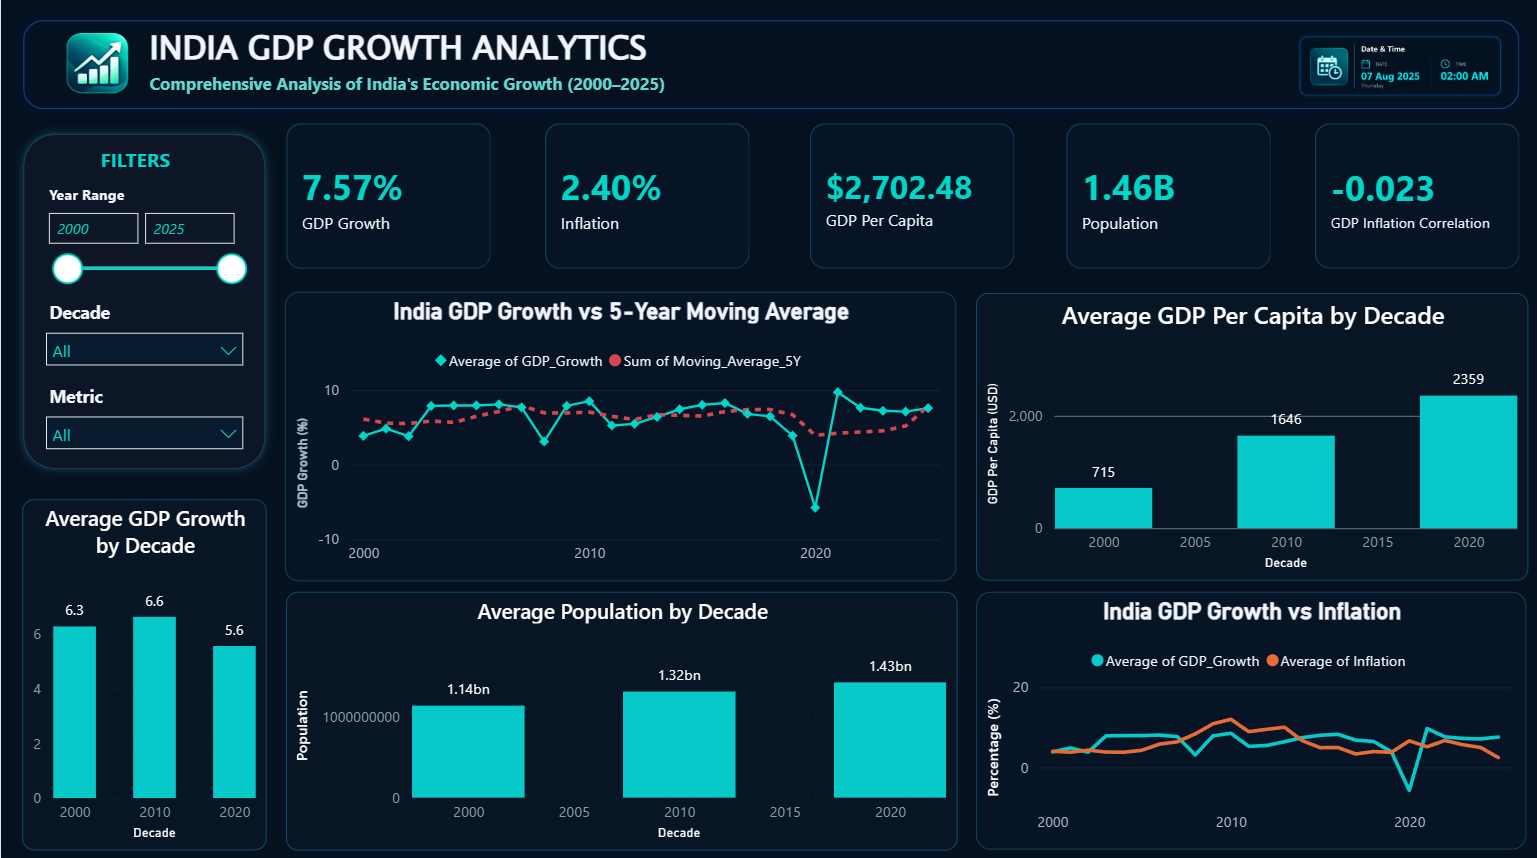

Layout of this report page (visuals, bound fields, positions):
{"tool":"powerbi","page":{"name":"Page 1","canvas":[1280,720],"ordinal":0},"visuals":[{"type":"shape","box":[10,10,1260,90],"z":0},{"type":"textbox","box":[118.9,16.4,440.2,59.4],"z":1000},{"type":"textbox","box":[118.9,55.7,440.2,35.4],"z":2000},{"type":"image","box":[53.1,29.1,54.4,50.6],"z":3000},{"type":"shape","box":[10.1,105,217.5,294.7],"z":4000},{"type":"textbox","box":[78.4,118.9,79.7,34.2],"z":5000},{"type":"slicer","fields":{"Values":["india_economic_analysis india_economic_data.Year"]},"box":[26.6,150.5,185.9,96.1],"z":6000},{"type":"slicer","fields":{"Values":["india_economic_analysis india_economic_data.Decade"]},"box":[26.6,246.6,184.7,70.8],"z":7000},{"type":"slicer","fields":{"Values":["Parameter.Parameter"]},"box":[26.6,316.2,184.7,72.1],"z":8000},{"type":"cardVisual","fields":{"Data":["Parameter.GDP Growth Display"]},"box":[220,87.8,204.9,155.6],"z":9000},{"type":"cardVisual","fields":{"Data":["Parameter.Inflation Display"]},"box":[435.6,87.8,204.9,155.6],"z":10000},{"type":"cardVisual","fields":{"Data":["Parameter.GDP Per Capita Display"]},"box":[655.6,87.8,204.9,155.6],"z":11000},{"type":"cardVisual","fields":{"Data":["Parameter.Population Display"]},"box":[868.9,87.8,204.4,155.6],"z":12000},{"type":"cardVisual","fields":{"Data":["Parameter.GDP Inflation Correlation Display"]},"box":[1075.6,87.8,204.9,155.6],"z":13000},{"type":"lineChart","title":"India GDP Growth vs 5-Year Moving Average","fields":{"Category":["india_economic_analysis india_economic_data.Year"],"Y":["Avg(india_economic_analysis india_economic_data.GDP_Growth)","Sum(india_economic_analysis india_economic_data.Moving_Average_5Y)"]},"box":[236.2,243.8,558.3,240.9],"z":14000},{"type":"columnChart","fields":{"Category":["india_economic_analysis india_economic_data.Decade"],"Y":["Avg(india_economic_analysis india_economic_data.GDP_Per_Capita)"]},"box":[810.8,245.4,459.2,239.2],"z":15000},{"type":"lineChart","title":"India GDP Growth vs Inflation ","fields":{"Category":["india_economic_analysis india_economic_data.Year"],"Y":["Avg(india_economic_analysis india_economic_data.GDP_Growth)","Avg(india_economic_analysis india_economic_data.Inflation)"]},"box":[811.1,493.3,457.8,214.4],"z":16000},{"type":"clusteredColumnChart","title":"Average GDP Growth by Decade","fields":{"Category":["india_economic_analysis india_economic_data.Decade"],"Y":["Avg(india_economic_analysis india_economic_data.GDP_Growth)"]},"box":[17.7,416.7,203.3,292.2],"z":17000},{"type":"clusteredColumnChart","title":"Average Population by Decade","fields":{"Category":["india_economic_analysis india_economic_data.Decade"],"Y":["Avg(india_economic_analysis india_economic_data.Population)"]},"box":[236.6,493.4,558.3,215],"z":18000},{"type":"image","box":[1073.6,29.1,178.8,55.1],"z":19000}]}

Visuals, with their boxes in screenshot pixels (x1, y1, x2, y2), scaled from the page's 1280x720 canvas onto the 1537x858 screenshot:
shape: box(12, 12, 1525, 119)
textbox: box(143, 20, 671, 90)
textbox: box(143, 66, 671, 109)
image: box(64, 35, 129, 95)
shape: box(12, 125, 273, 476)
textbox: box(94, 142, 190, 182)
slicer - india_economic_analysis india_economic_data.Year: box(32, 179, 255, 294)
slicer - india_economic_analysis india_economic_data.Decade: box(32, 294, 254, 378)
slicer - Parameter.Parameter: box(32, 377, 254, 463)
cardVisual - Parameter.GDP Growth Display: box(264, 105, 510, 290)
cardVisual - Parameter.Inflation Display: box(523, 105, 769, 290)
cardVisual - Parameter.GDP Per Capita Display: box(787, 105, 1033, 290)
cardVisual - Parameter.Population Display: box(1043, 105, 1289, 290)
cardVisual - Parameter.GDP Inflation Correlation Display: box(1292, 105, 1536, 290)
"India GDP Growth vs 5-Year Moving Average" lineChart: box(284, 291, 954, 578)
columnChart - india_economic_analysis india_economic_data.Decade x Avg(india_economic_analysis india_economic_data.GDP_Per_Capita): box(974, 292, 1525, 577)
"India GDP Growth vs Inflation " lineChart: box(974, 588, 1524, 843)
"Average GDP Growth by Decade" clusteredColumnChart: box(21, 497, 265, 845)
"Average Population by Decade" clusteredColumnChart: box(284, 588, 955, 844)
image: box(1289, 35, 1504, 100)
